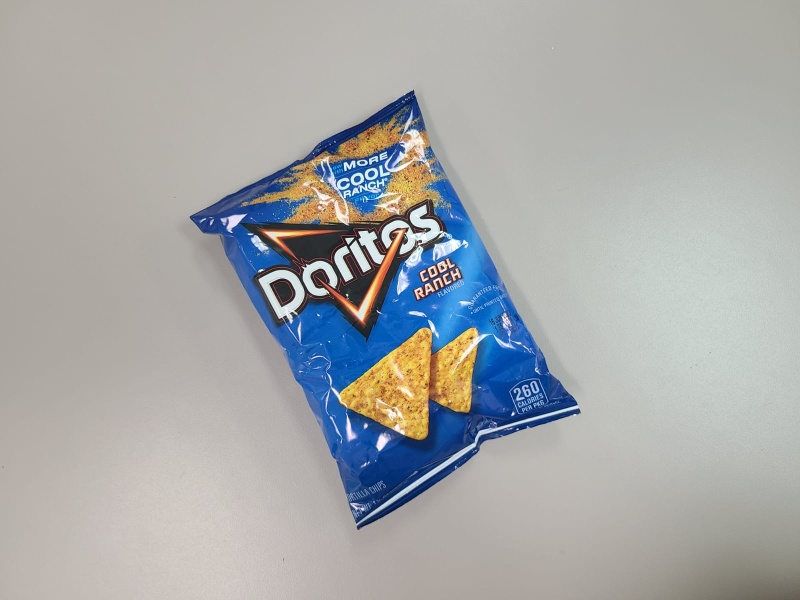doritos: (188, 90, 581, 533)
